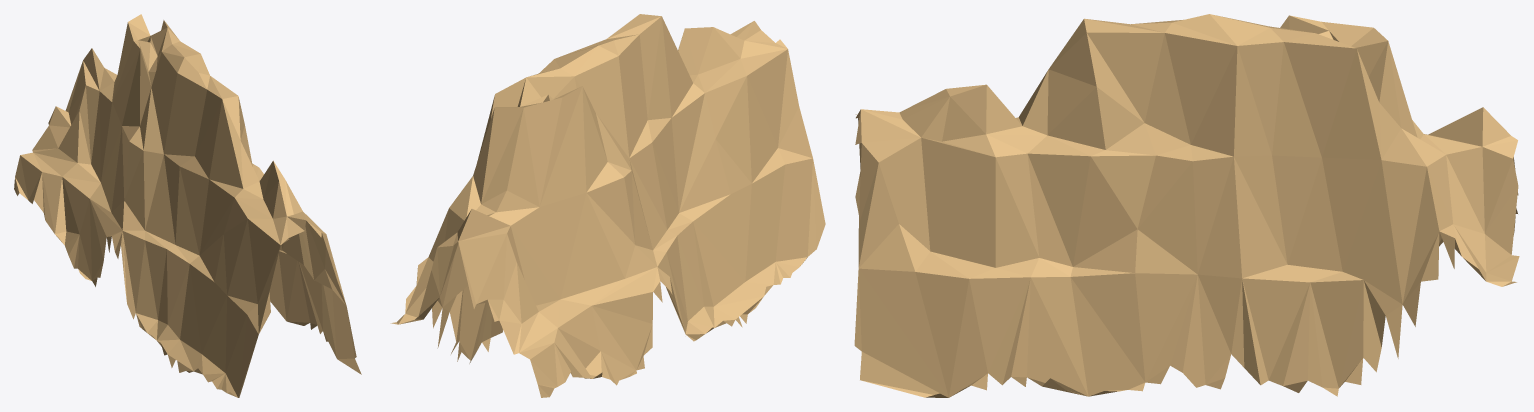
Rendered from mountain.fbx.
3 views of the same model, side by side, from view 1: azimuth 30°, elevation 25°; view 2: azimuth 150°, elevation 25°; view 3: azimuth 270°, elevation 25° (orthographic). The views are drawn at different scales.
Parts seen in each view (by area): view 1: Landscape; view 2: Landscape; view 3: Landscape.
Part boxes in pixels (x1,y1,x2,y2): Landscape: (14,14,361,397); Landscape: (390,14,825,397); Landscape: (854,14,1519,397).
Bounding box in the file's own units: 29.09 × 52.97 × 89.25.
